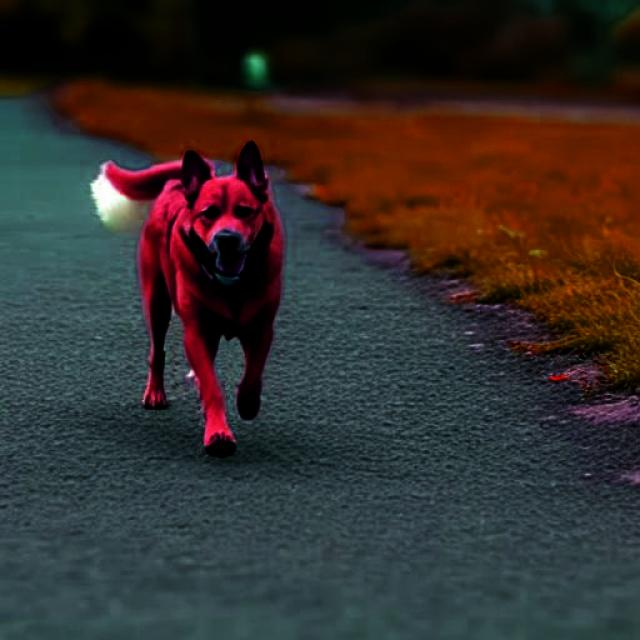Dog: (90, 139, 282, 460)
